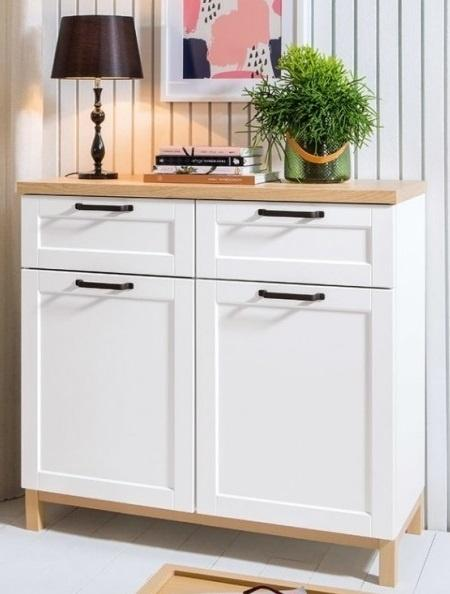cabinet_door: (201, 288, 392, 531), (28, 279, 191, 499), (195, 203, 396, 283), (24, 203, 197, 273)
handle: (256, 285, 328, 310), (255, 203, 328, 226), (73, 275, 136, 300), (74, 197, 136, 218)
